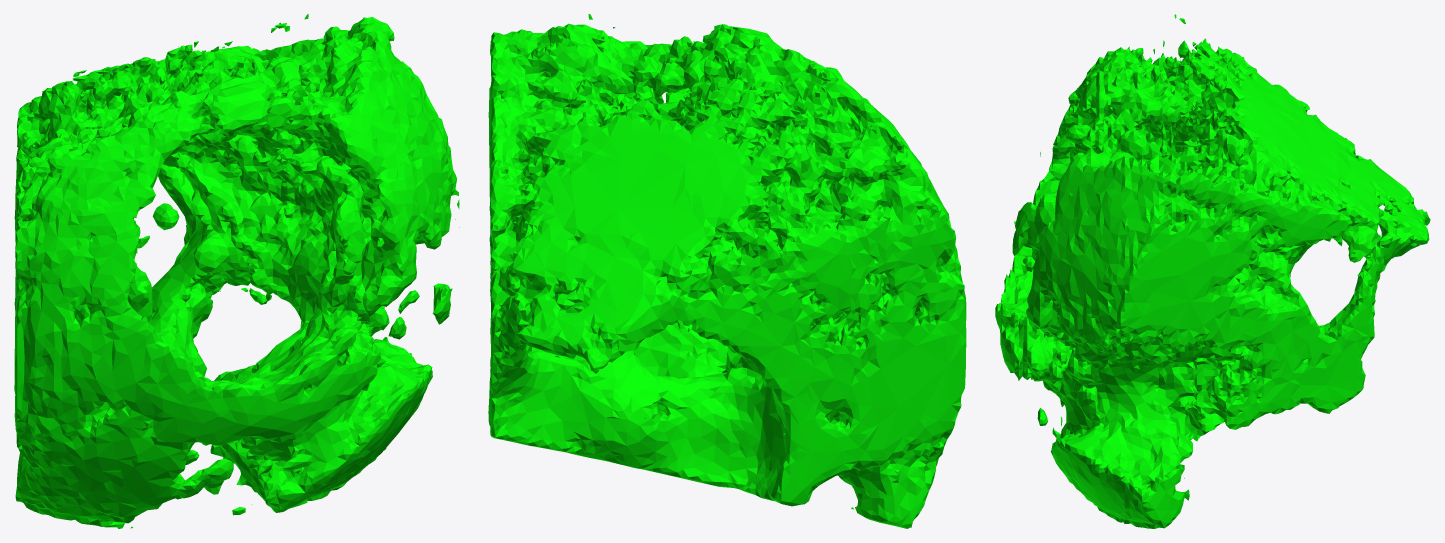
The model's file is B939XXXX-1_base_32.obj.
3 renders of one model, left to right at view 1: azimuth 30°, elevation 25°; view 2: azimuth 150°, elevation 25°; view 3: azimuth 270°, elevation 25°, orthographic. The views are drawn at different scales.
Parts seen in each view (by area): view 1: 32_base; view 2: 32_base; view 3: 32_base.
Part boxes in pixels (<box>): 32_base: <box>14,14,459,528</box>; 32_base: <box>488,14,966,528</box>; 32_base: <box>995,14,1430,528</box>.
Bounding box in the file's own units: 219 × 215 × 205.
